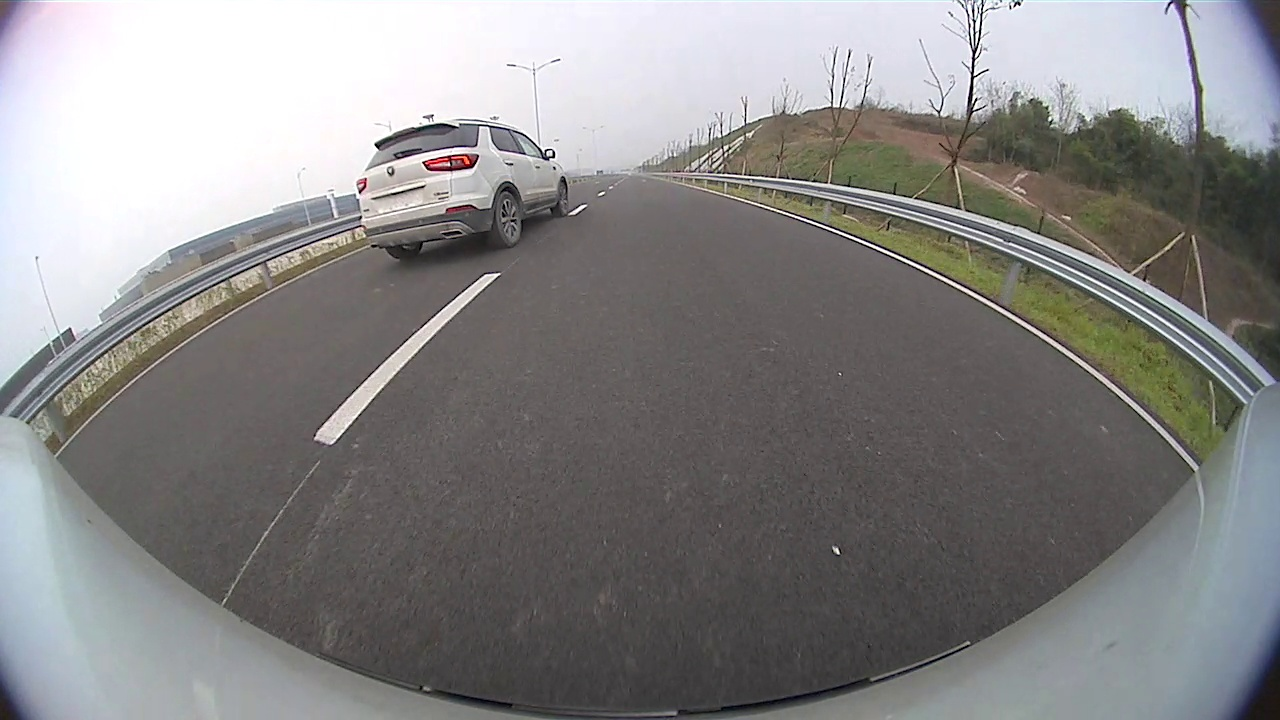car: (355, 115, 573, 261)
front: (556, 180, 571, 219)
rear: (495, 187, 522, 250)
